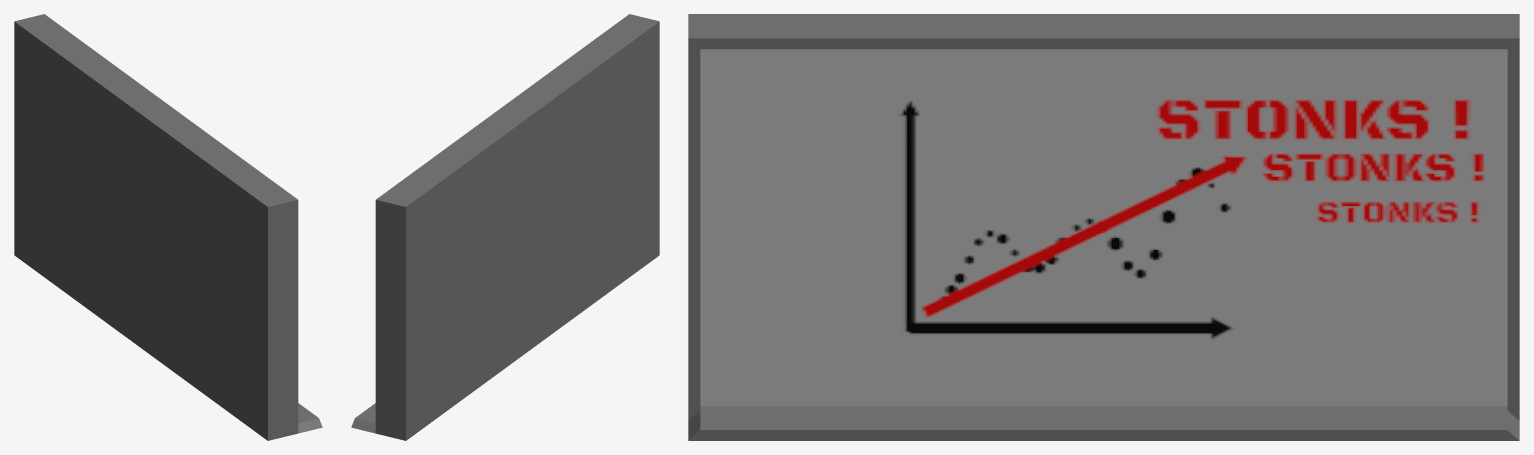
Rendered from WhiteBoard_StonkVer.fbx.
3 views of the same model, side by side, from view 1: azimuth 30°, elevation 25°; view 2: azimuth 150°, elevation 25°; view 3: azimuth 270°, elevation 25° (orthographic). The views are drawn at different scales.
Parts seen in each view (by area): view 1: WhiteBoard; view 2: WhiteBoard; view 3: WhiteBoard.
Part boxes in pixels (left/top/right/bottom): WhiteBoard: left=14, top=14, right=322, bottom=440; WhiteBoard: left=351, top=14, right=659, bottom=440; WhiteBoard: left=688, top=14, right=1519, bottom=440.
Bounding box in the file's own units: 76.03 × 310 × 609.
2 materials, 1 textured.
